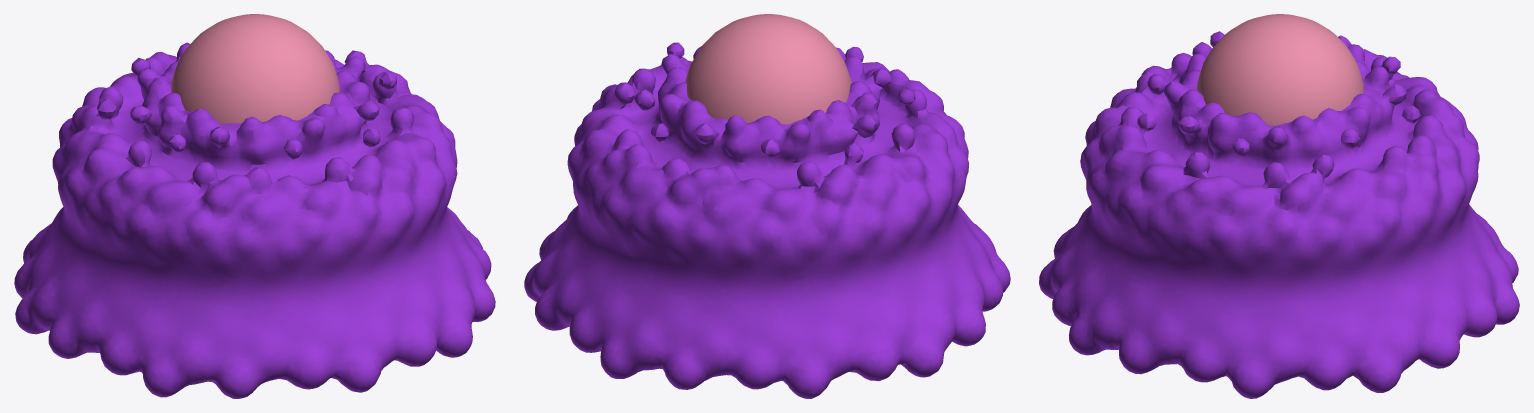
The model's file is medusa.glb.
3 views of the same model, side by side, from view 1: azimuth 30°, elevation 25°; view 2: azimuth 150°, elevation 25°; view 3: azimuth 270°, elevation 25° (orthographic).
Parts seen in each view (by area): view 1: medusa; view 2: medusa; view 3: medusa.
Part boxes in pixels (box(x1,y1,x2,y2)): medusa: box(14, 14, 495, 398); medusa: box(524, 14, 1010, 398); medusa: box(1039, 14, 1519, 398).
Bounding box in the file's own units: 3.98 × 2.6 × 3.97.
